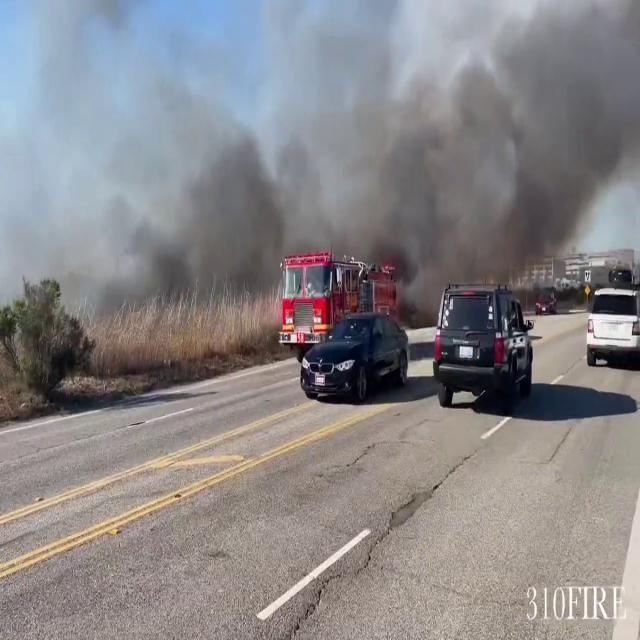Smoke: (62, 2, 640, 300), (363, 0, 640, 290)
